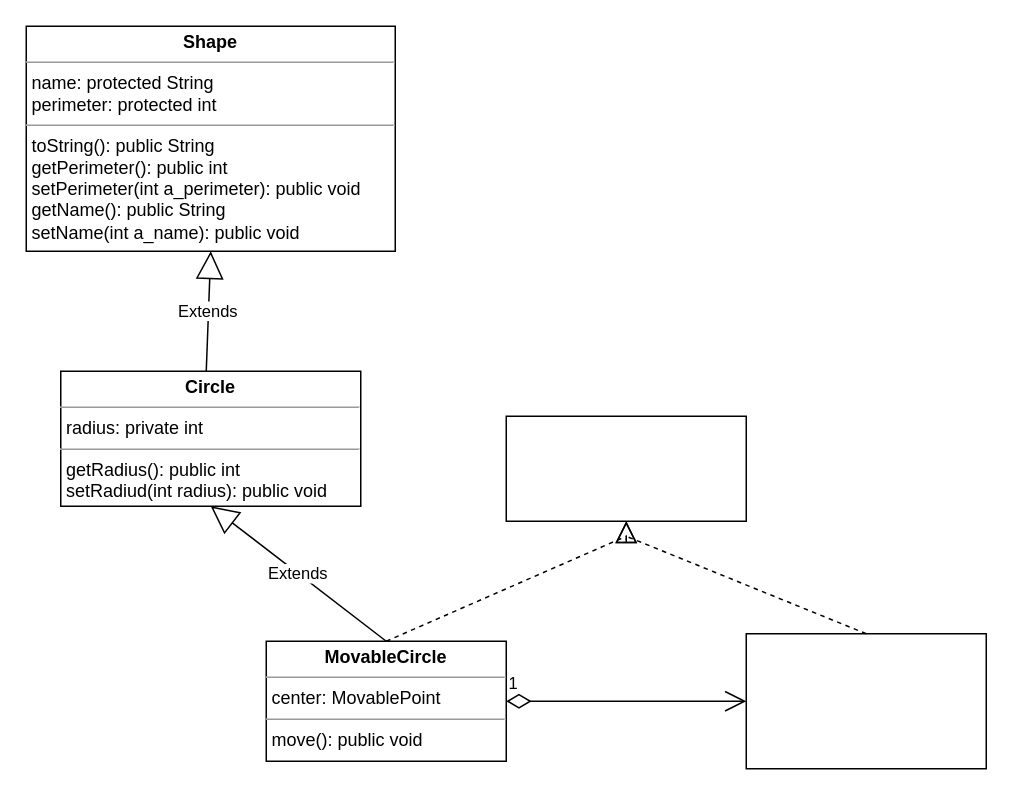
This 1013x795 diagram has some shape labels left out. Here are the shapes that lost their labels. From the top down, the box of each, then its label:
(505, 415, 746, 521): <<Interface>> Movable move(): public void
(745, 632, 986, 769): MovablePoint x: private int y: private int move(): public void
